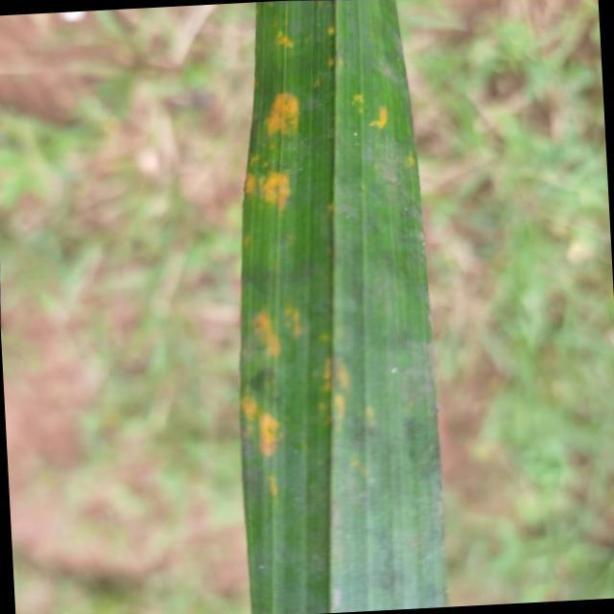Kalium: (239, 0, 442, 614)
